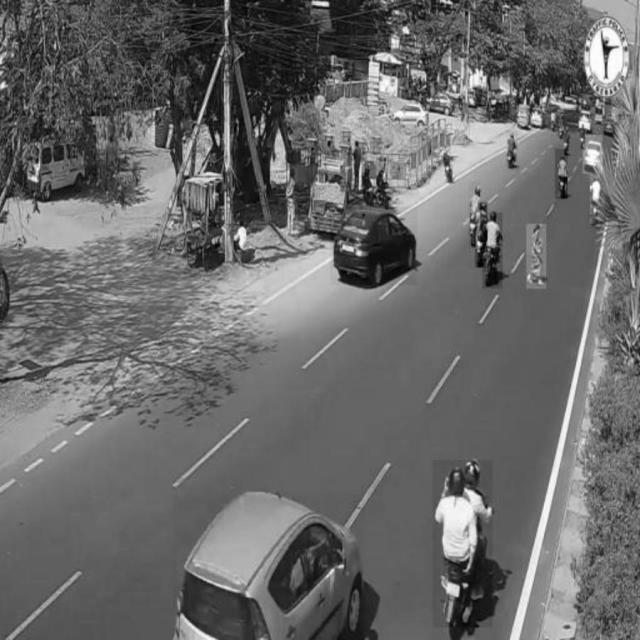person: (526, 224, 546, 288), (285, 169, 299, 239)
vehicle: (174, 494, 366, 640), (432, 461, 493, 628), (330, 207, 418, 285), (483, 213, 503, 289), (475, 202, 489, 266), (583, 135, 603, 173), (469, 182, 479, 249), (555, 149, 567, 199), (590, 174, 600, 224), (507, 131, 517, 172)
